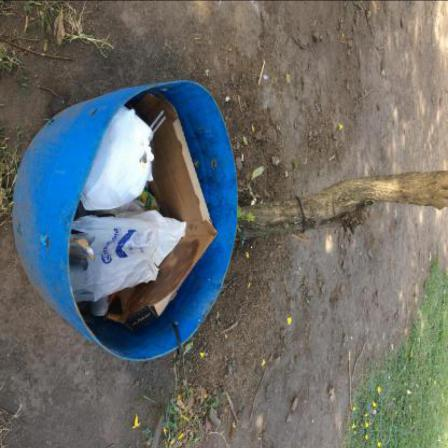Carton: (108, 91, 218, 335), (136, 190, 161, 214)
Cigarette: (243, 155, 245, 163)
Cup: (92, 297, 110, 318)
Plastic bag - wrapper: (72, 200, 188, 303), (81, 107, 155, 212), (70, 238, 96, 263)
Straw: (150, 111, 164, 130), (153, 116, 167, 134)
